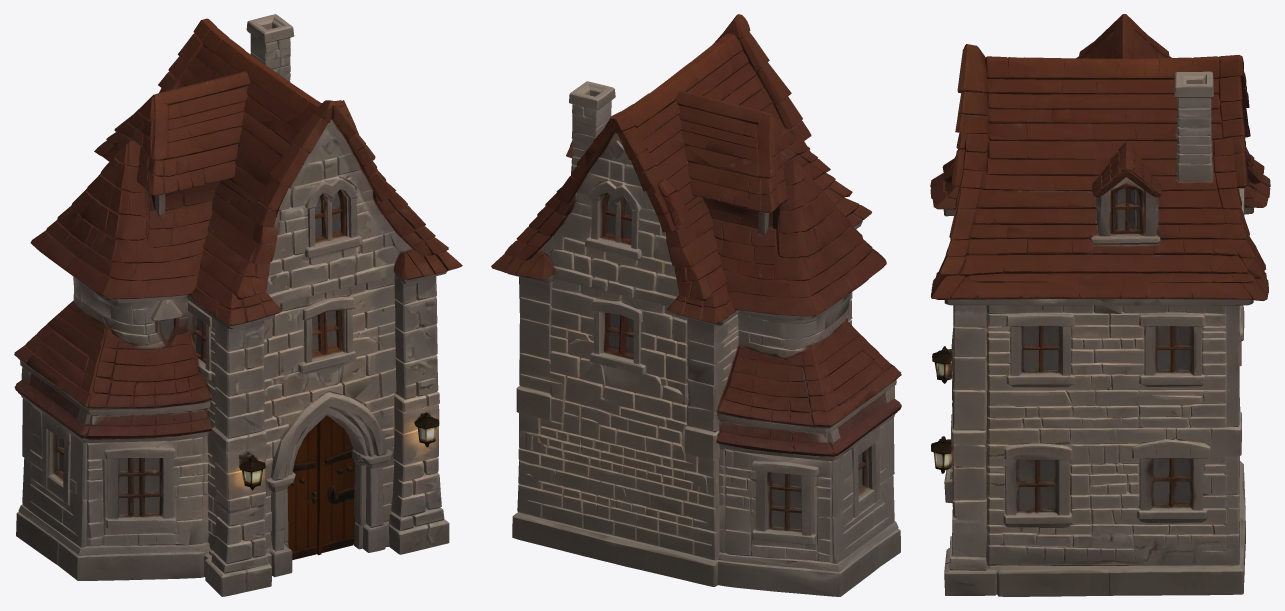
3 renders of one model, left to right at view 1: azimuth 30°, elevation 25°; view 2: azimuth 150°, elevation 25°; view 3: azimuth 270°, elevation 25°, orthographic. The views are drawn at different scales.
Parts seen in each view (by area): view 1: model; view 2: model; view 3: model.
Boxes of the visible parts, left/top/right/bottom form: model: left=14, top=14, right=462, bottom=596; model: left=491, top=14, right=901, bottom=596; model: left=930, top=14, right=1270, bottom=596.
Size of the model in its own units: 1.39 by 1.9 by 1.18.
Materials: 1 (1 with a texture image).
